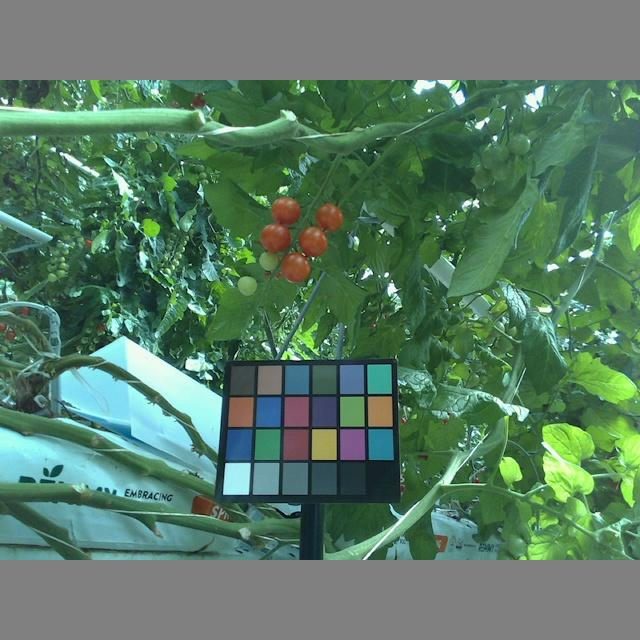green: (257, 247, 280, 272), (235, 273, 259, 296)
pink: (259, 221, 292, 255), (280, 250, 312, 284), (269, 194, 301, 226), (298, 225, 327, 258), (315, 202, 345, 233)
